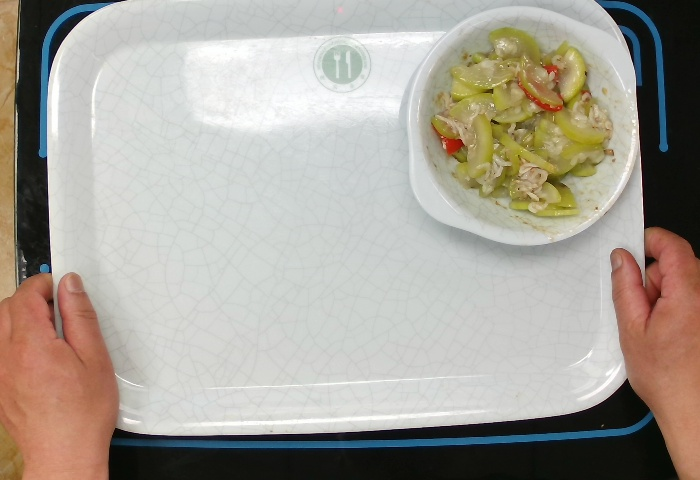JYsf-Shuang_Er_Wan: (390, 1, 660, 252)
